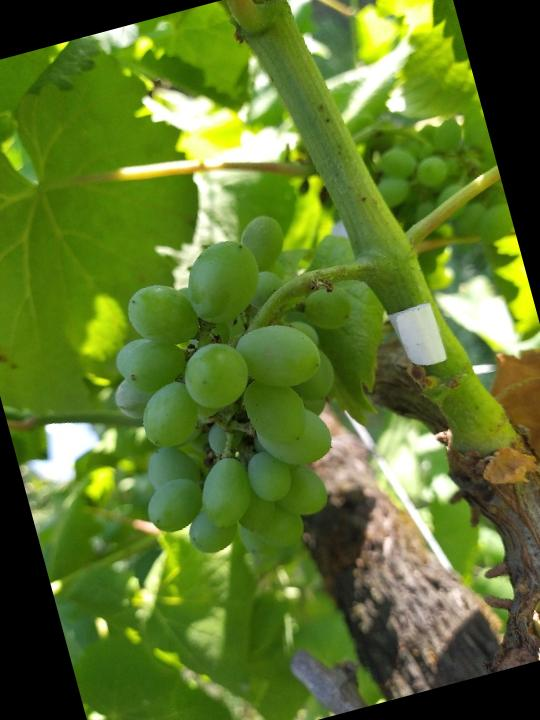grape: (77, 195, 409, 588)
